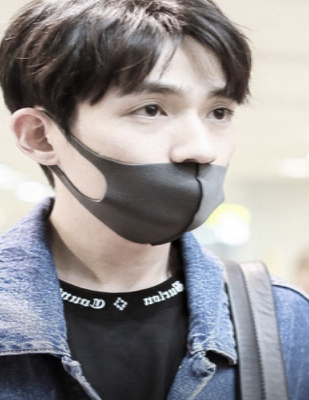mask_weared_incorrect: (77, 80, 240, 247)
